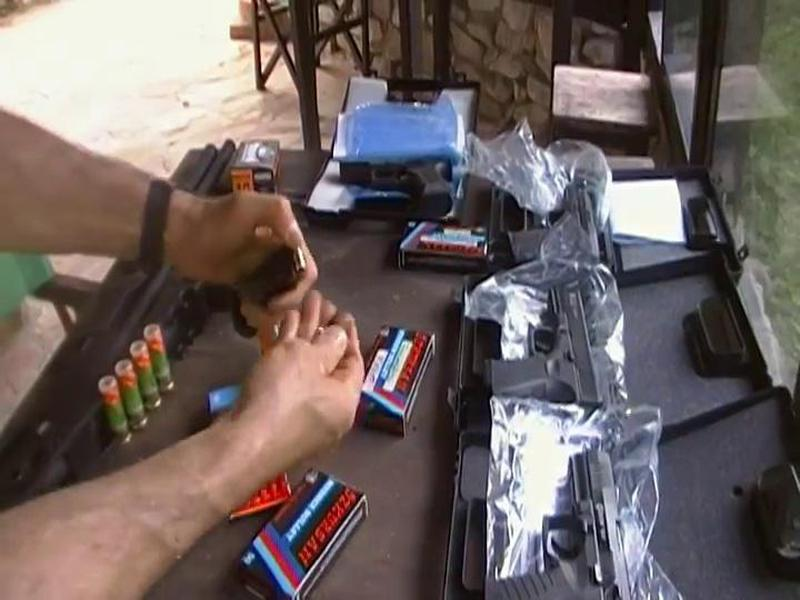Pistola: (464, 436, 649, 600), (468, 275, 623, 413)
